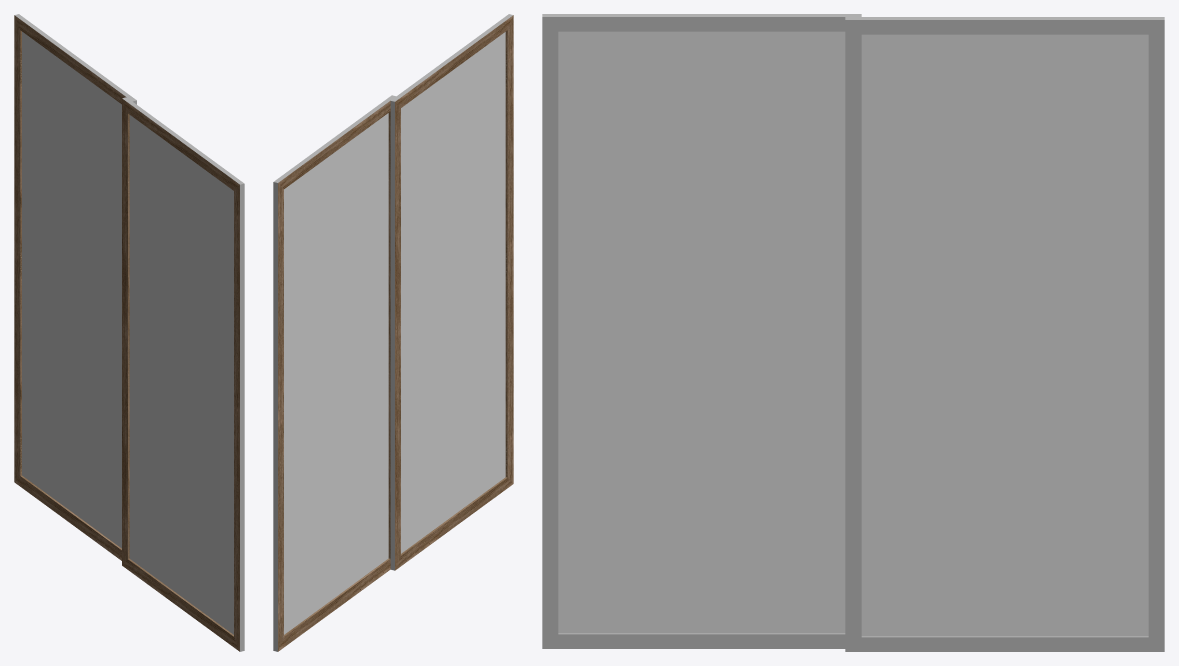
Rendered from CubeHouse_1_window_1.fbx.
3 views of the same model, side by side, from view 1: azimuth 30°, elevation 25°; view 2: azimuth 150°, elevation 25°; view 3: azimuth 270°, elevation 25° (orthographic). The views are drawn at different scales.
Parts seen in each view (by area): view 1: GDLM1234_GDLM989_mLayer11_183.002, GDLM1234_GDLM989_mLayer11_183.001; view 2: GDLM1234_GDLM989_mLayer11_183.002, GDLM1234_GDLM989_mLayer11_183.001; view 3: GDLM1234_GDLM989_mLayer11_183.003, GDLM1234_GDLM989_mLayer11_183.004, GDLM1234_GDLM989_mLayer11_183.001, GDLM1234_GDLM989_mLayer11_183.002.
Part boxes in pixels (<box>): GDLM1234_GDLM989_mLayer11_183.002: <box>122,97,244,651</box>; GDLM1234_GDLM989_mLayer11_183.001: <box>14,14,136,560</box>; GDLM1234_GDLM989_mLayer11_183.002: <box>390,14,513,570</box>; GDLM1234_GDLM989_mLayer11_183.001: <box>273,95,395,651</box>; GDLM1234_GDLM989_mLayer11_183.003: <box>558,31,845,633</box>; GDLM1234_GDLM989_mLayer11_183.004: <box>861,34,1148,636</box>; GDLM1234_GDLM989_mLayer11_183.001: <box>845,17,1164,651</box>; GDLM1234_GDLM989_mLayer11_183.002: <box>542,14,861,648</box>.
Size of the model in its own units: 0.04 by 1.96 by 1.75.
4 materials, 2 textured.
